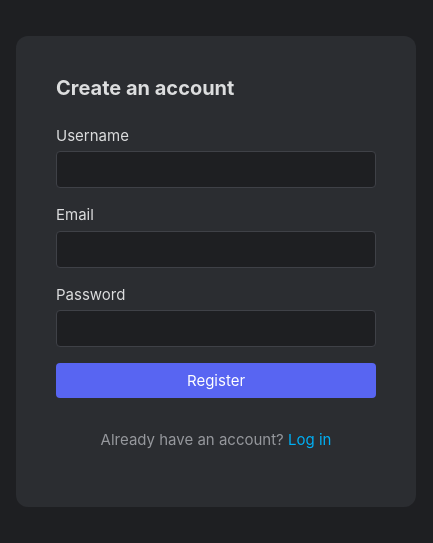
Test case: RegisterPage › shows inline error for duplicate email
In the field labelled "Username": (216, 170) [56, 151, 376, 188], type "newuser"
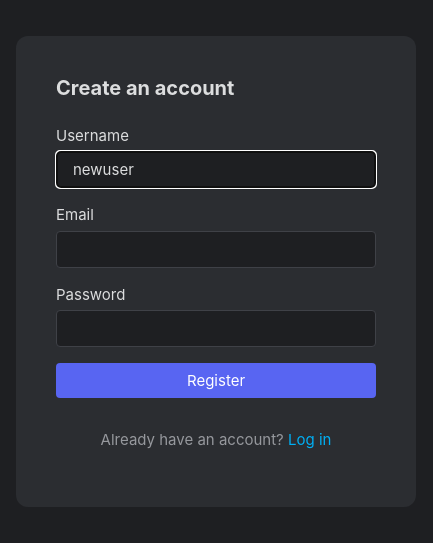
In the field labelled "Email": (216, 249) [56, 230, 376, 268], type "taken@example.com"
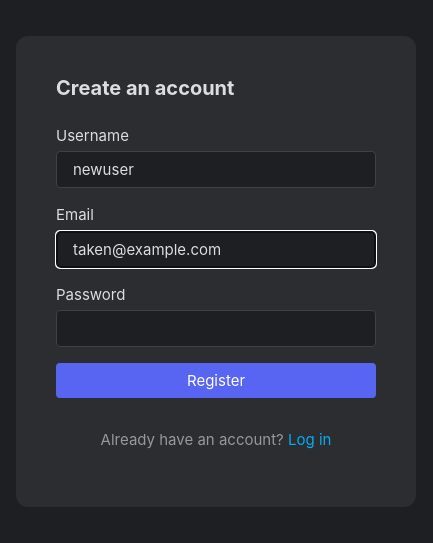
In the password field labelled "Password": (216, 328) [56, 310, 376, 347], type "mypass"
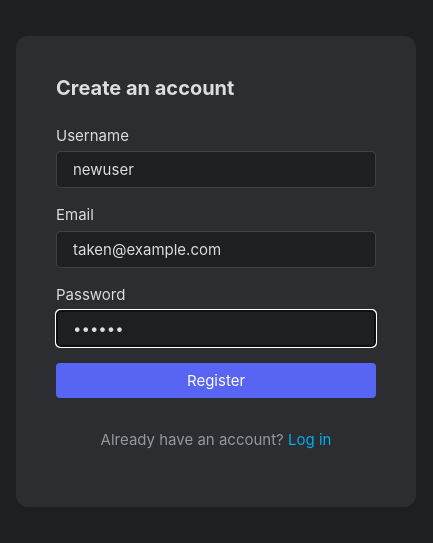
Click the button "Register": click(216, 380) [56, 363, 376, 398]
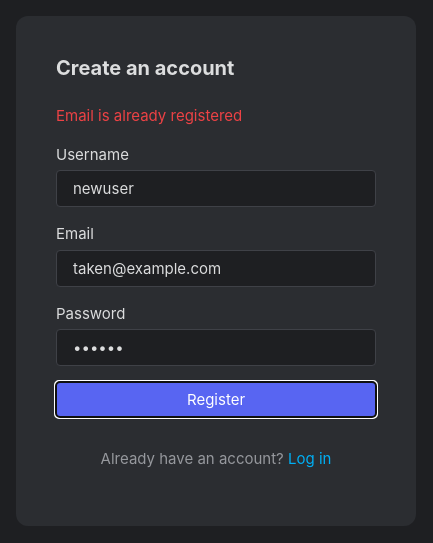
Check: the message shows "already registered", box [56, 106, 242, 125]
